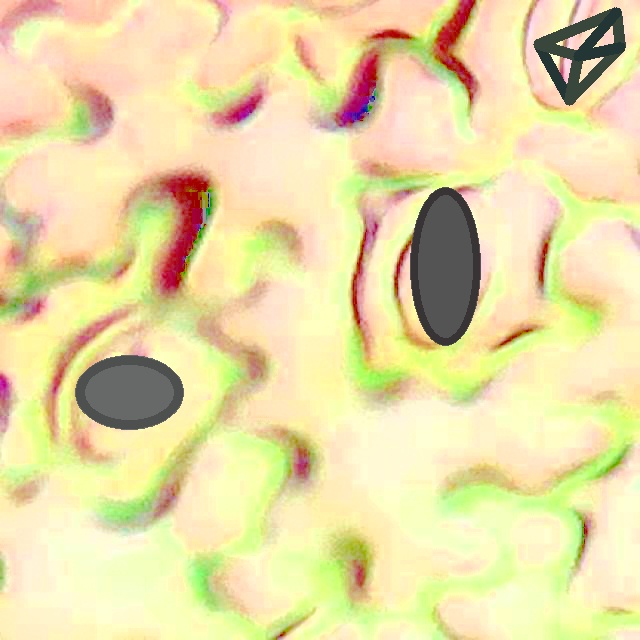close: (410, 187, 480, 345), (74, 355, 183, 430)
open: (533, 7, 624, 105)
